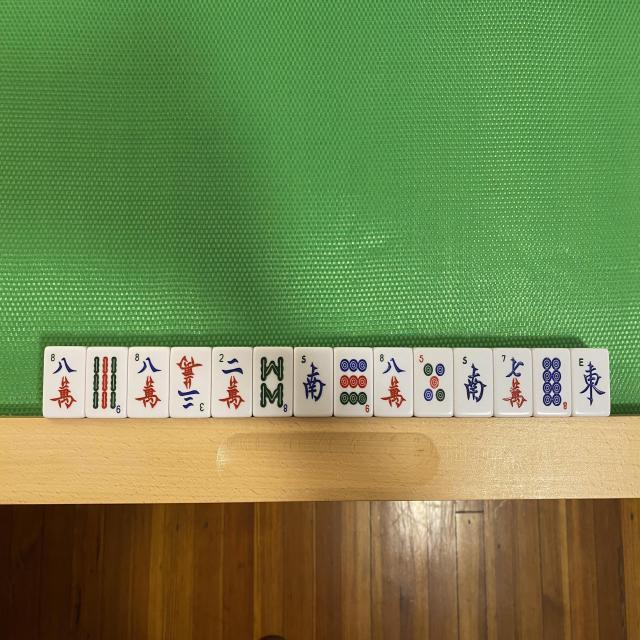hwe: (572, 348, 608, 414)
hws: (296, 350, 333, 417), (455, 350, 492, 416)
sb8: (256, 346, 294, 414)
sb9: (86, 348, 125, 418)
sc2: (211, 347, 251, 415)
sc3: (172, 349, 212, 417)
sc7: (494, 350, 530, 416)
sc8: (45, 348, 85, 418), (128, 350, 168, 418), (375, 350, 413, 418)
sd5: (414, 350, 452, 416)
sd8: (536, 348, 571, 414)
sd9: (336, 348, 374, 414)
